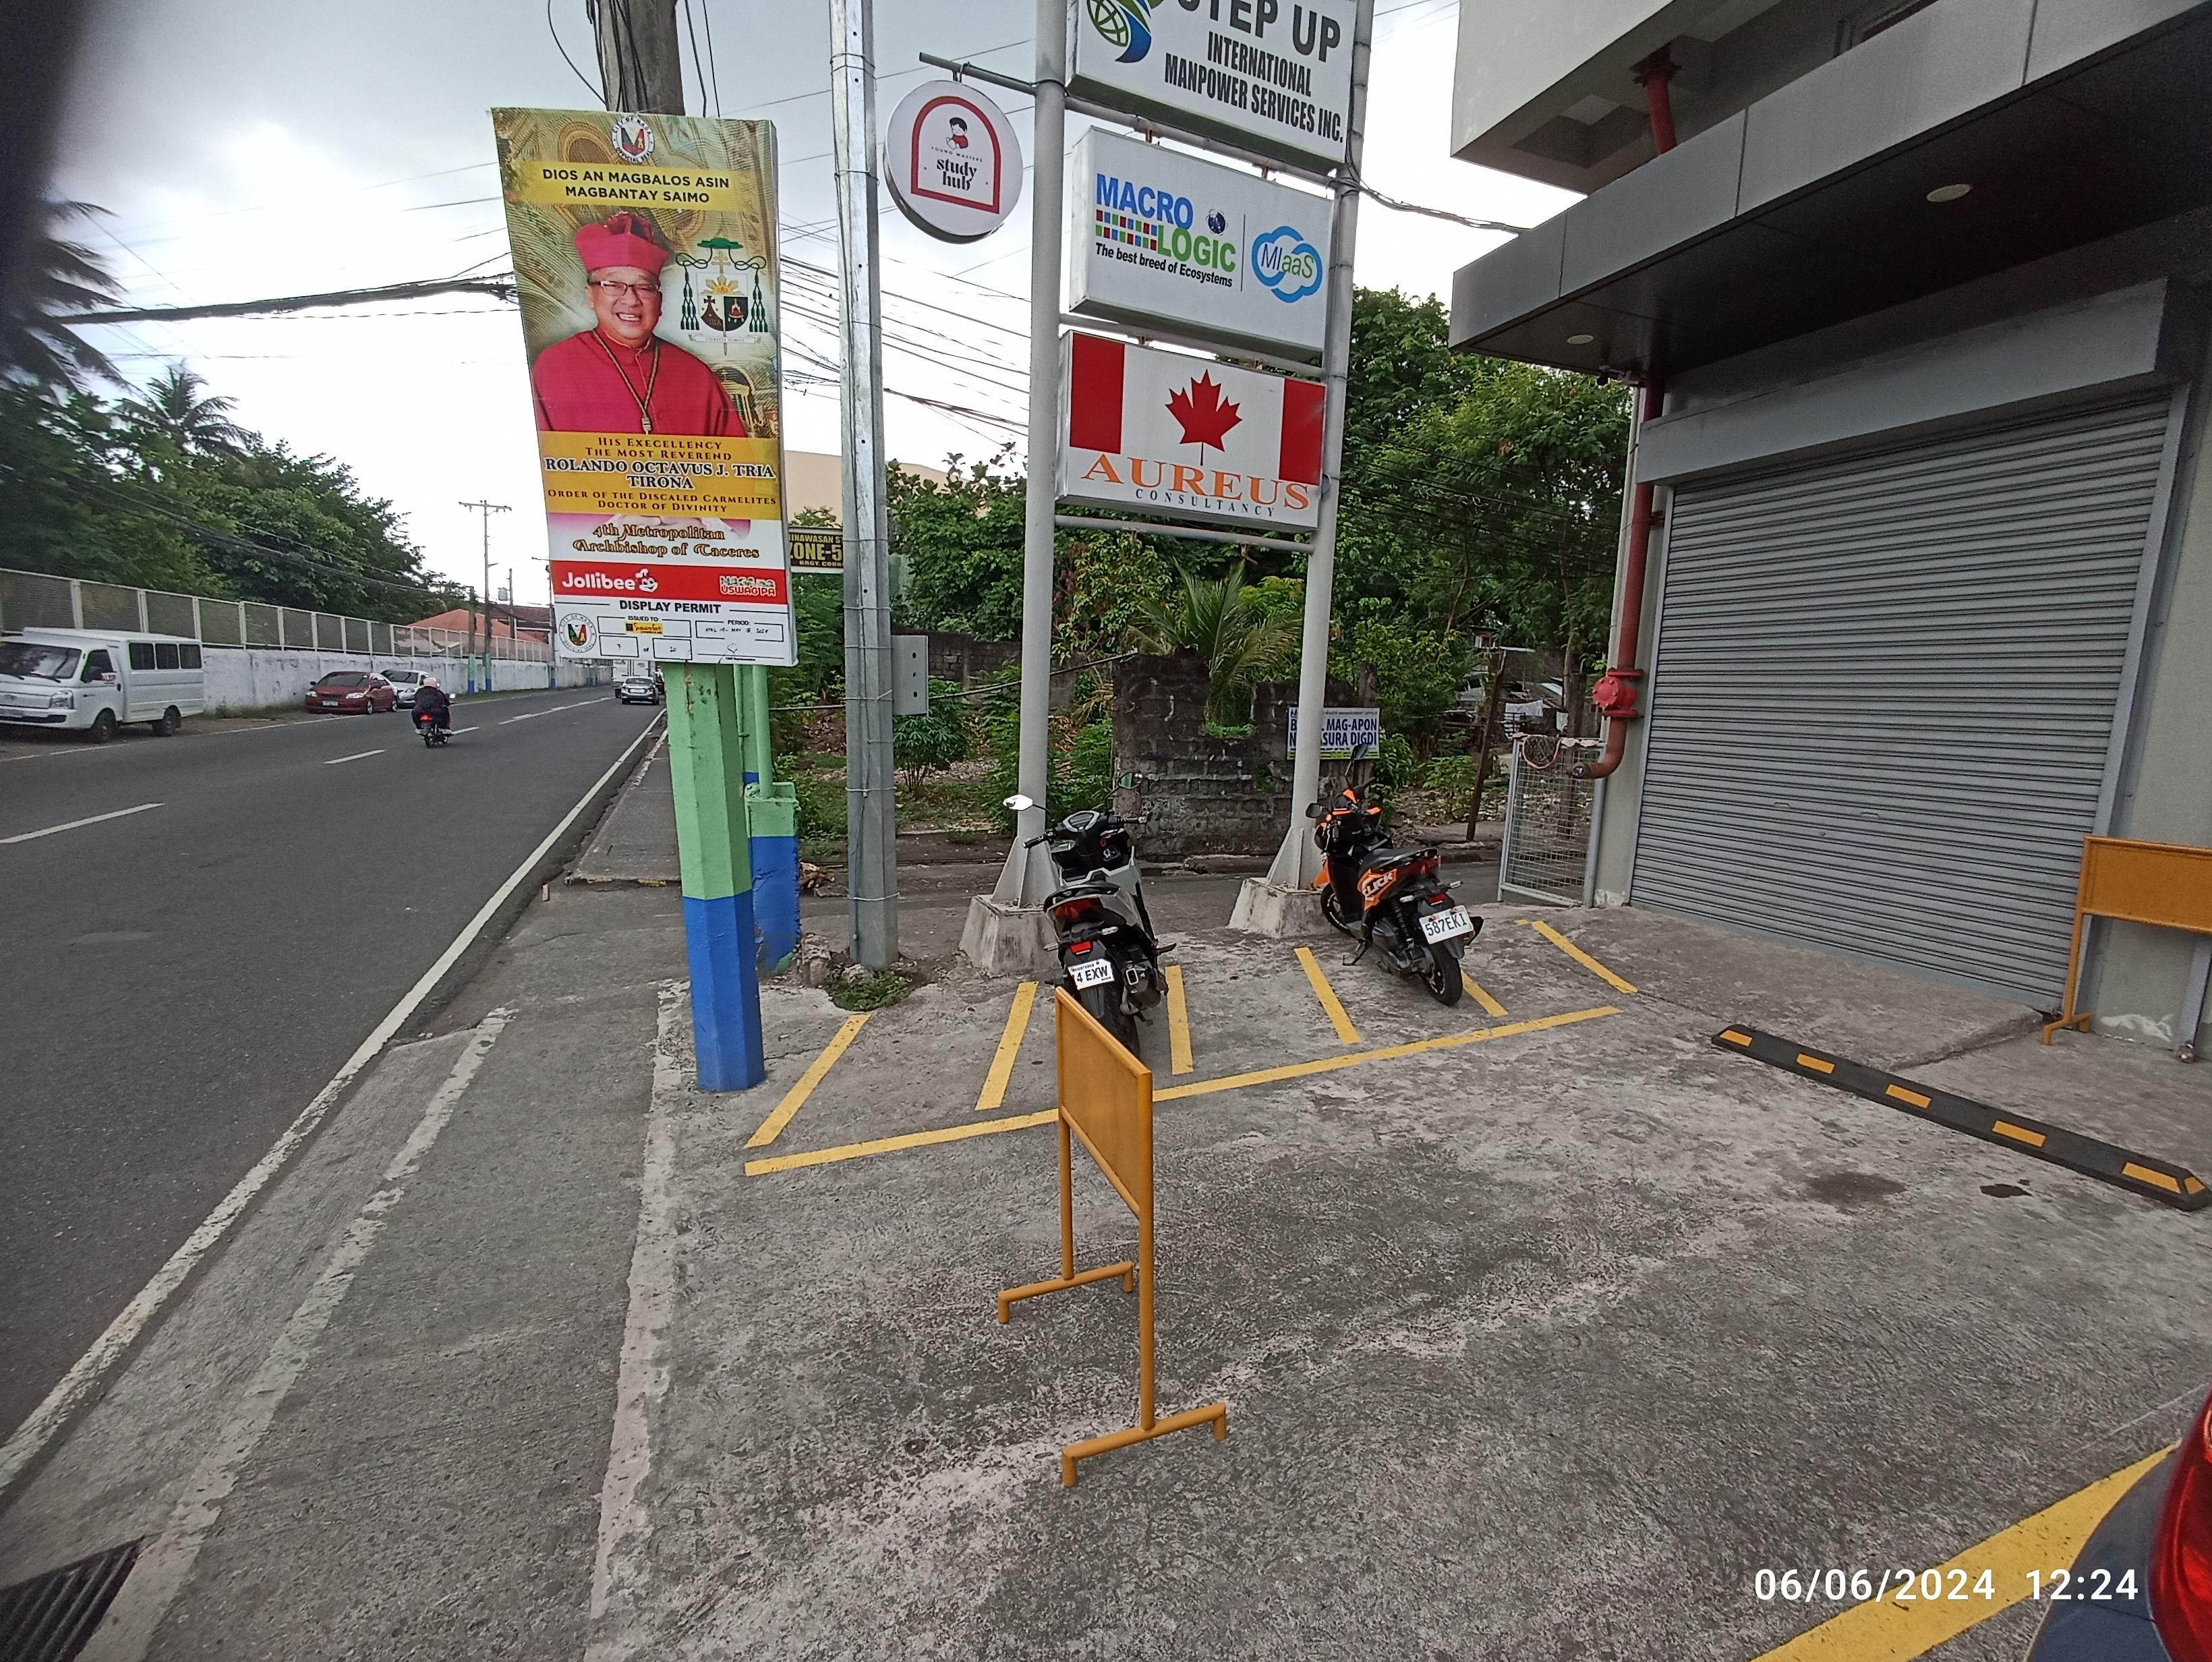occupied: (965, 964, 1198, 1140), (1292, 927, 1528, 1070)
vacant: (719, 978, 1041, 1184), (1163, 943, 1372, 1105), (1449, 911, 1660, 1035)
